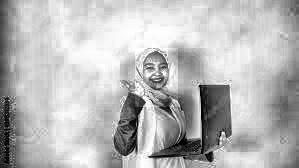happy: (135, 49, 178, 108)
